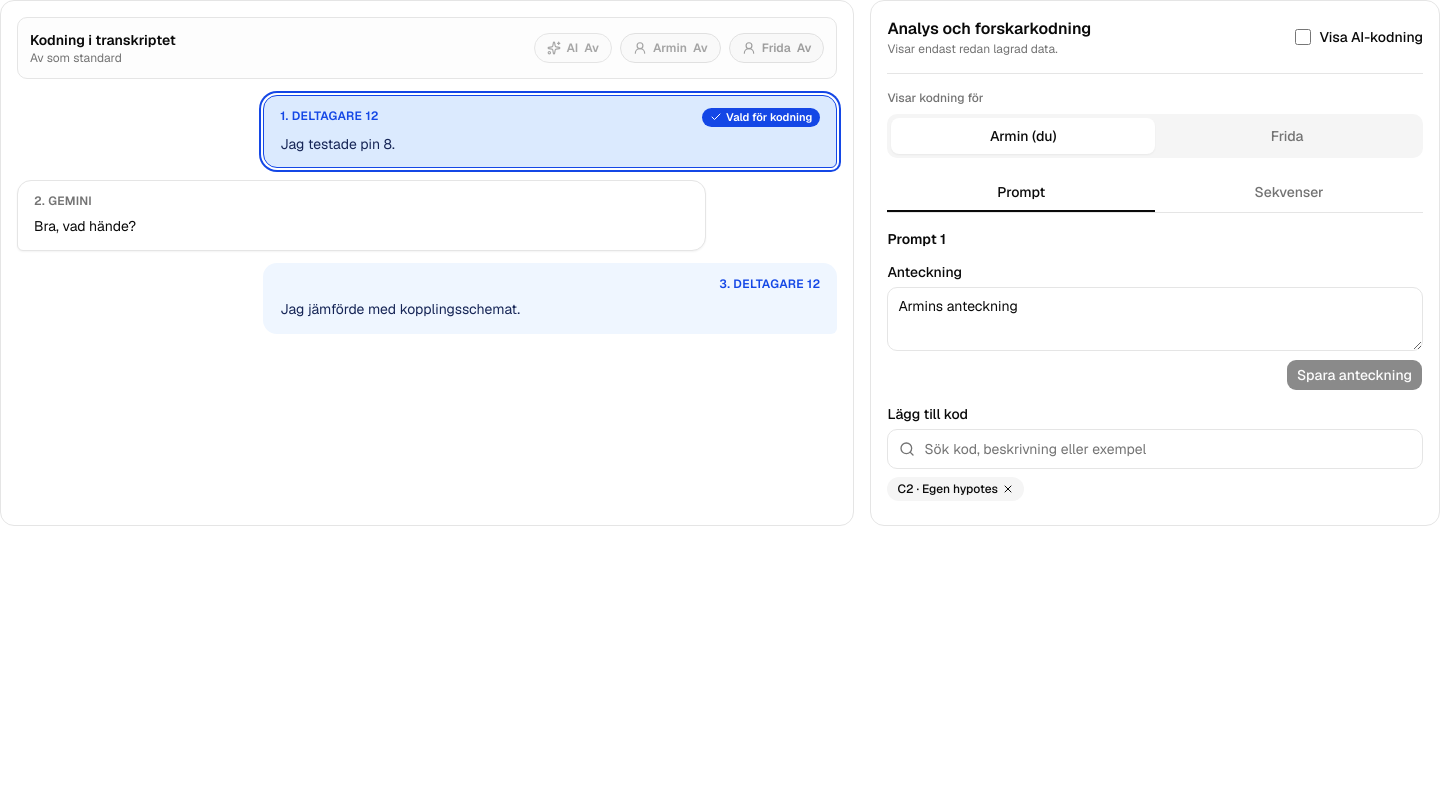
Test case: TranscriptWorkspace › searches stored framework codes without AI
The width and height of the screenshot is (1440, 810).
Step 1. Type "noggrann" into the field with placeholder "Sök kod, beskrivning eller exempel" → point(1155, 449), box [887, 429, 1423, 469]
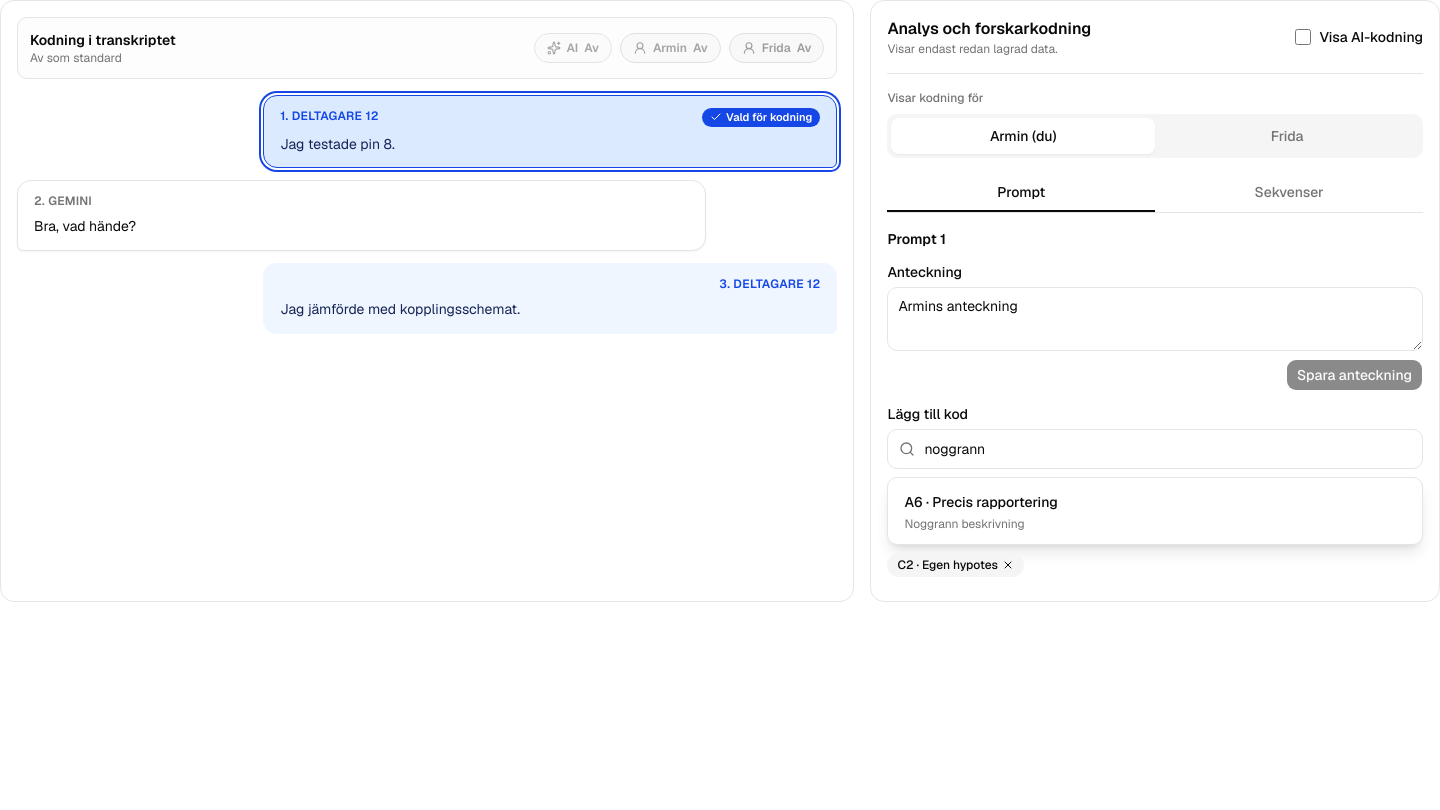
expect the text "A6 · Precis rapportering" is shown: met, box [904, 493, 1058, 511]
